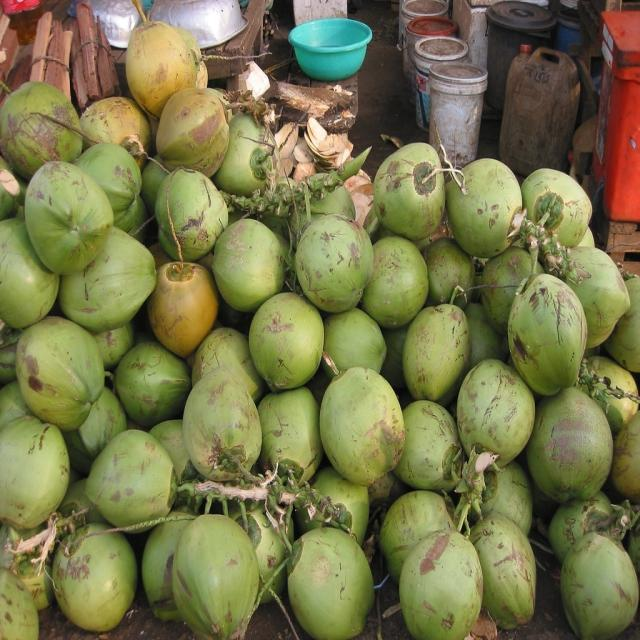coconut: (168, 513, 260, 640), (56, 228, 158, 332), (24, 160, 114, 274), (318, 366, 404, 485), (16, 318, 105, 430), (526, 389, 613, 503), (289, 525, 375, 640), (507, 274, 588, 396), (396, 528, 484, 640), (50, 522, 138, 632), (183, 368, 265, 481), (84, 431, 178, 528), (560, 530, 639, 640), (455, 360, 536, 467), (466, 511, 537, 630), (0, 81, 84, 179), (124, 17, 200, 121), (0, 418, 70, 530), (446, 159, 524, 259), (294, 215, 372, 314), (379, 490, 458, 586), (212, 220, 288, 316), (560, 248, 632, 348), (402, 302, 472, 404), (374, 142, 446, 240), (154, 169, 228, 263), (156, 87, 230, 178), (148, 260, 219, 354), (393, 400, 465, 492), (256, 390, 322, 488), (0, 220, 59, 329), (116, 342, 192, 426), (363, 236, 430, 328), (519, 168, 593, 250), (212, 106, 276, 198), (72, 143, 145, 222), (192, 328, 264, 403), (480, 245, 541, 333), (238, 504, 290, 604), (548, 492, 618, 564), (78, 97, 152, 165), (1, 518, 55, 610), (308, 470, 370, 548), (323, 307, 387, 381), (580, 357, 640, 435), (69, 385, 127, 464), (472, 462, 532, 536), (421, 237, 476, 311), (605, 274, 640, 371), (462, 306, 506, 379), (609, 408, 640, 502), (150, 422, 194, 486), (298, 178, 358, 224), (376, 322, 412, 389), (166, 26, 204, 88), (0, 152, 30, 220), (140, 157, 171, 214), (193, 88, 231, 128), (115, 192, 147, 239)
